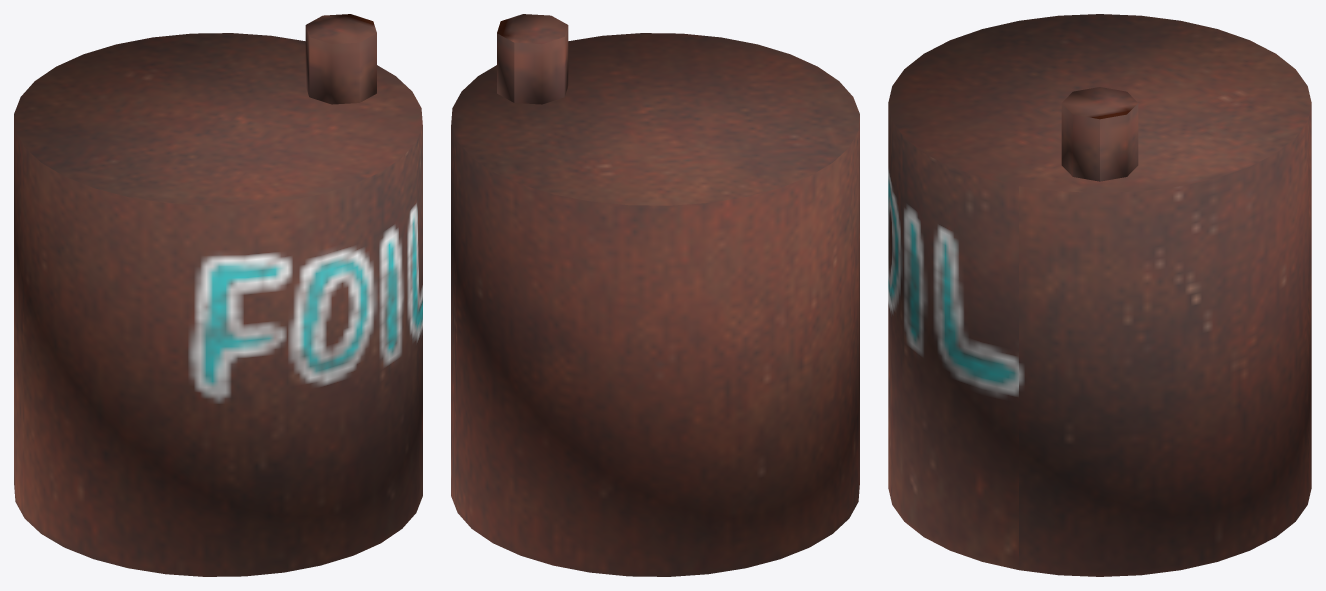
File: Vida_chica.glb
3 renders of one model, left to right at view 1: azimuth 30°, elevation 25°; view 2: azimuth 150°, elevation 25°; view 3: azimuth 270°, elevation 25°, orthographic. The views are drawn at different scales.
Parts seen in each view (by area): view 1: Cylinder; view 2: Cylinder; view 3: Cylinder.
Boxes of the visible parts, <box> form: Cylinder: <box>14,14,422,576</box>; Cylinder: <box>451,14,859,576</box>; Cylinder: <box>888,14,1311,576</box>.
Bounding box in the file's own units: 0.407 × 0.4731 × 0.407.
1 material, 1 textured.
